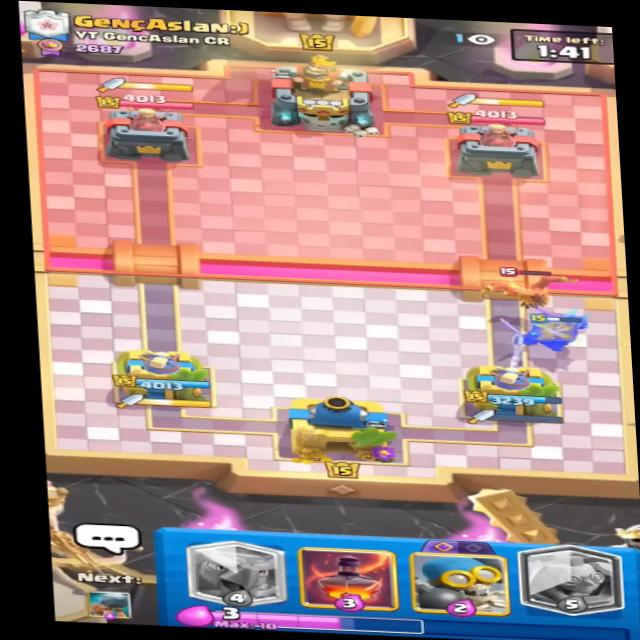phoenix: (471, 263, 587, 320)
